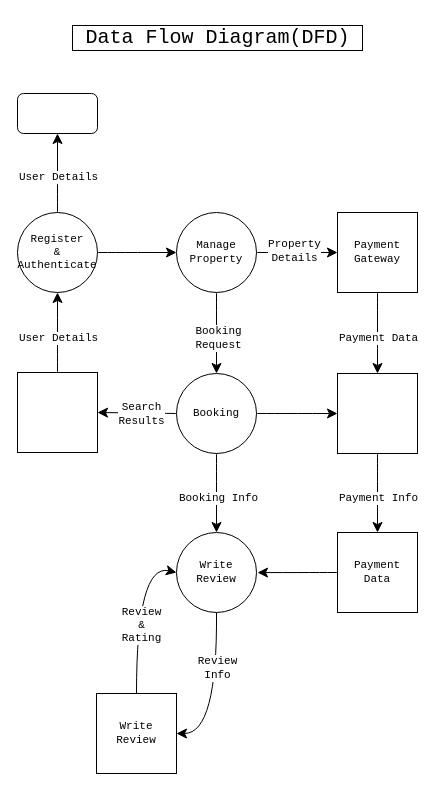
Some shapes in this 435 by 791 pixel diagram are drawn without their labels. The shapes that lost their labels are listed below. From the top down, each one's centre as x and y in pixels, then its label:
At (x=57, y=113): "User".
At (x=57, y=412): "User Data".
At (x=377, y=413): "Booking Data".
